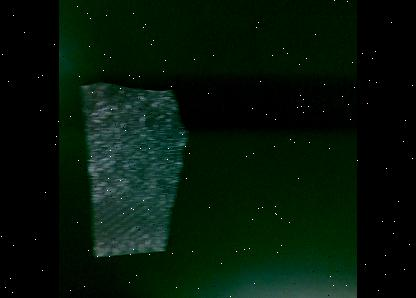Others: (80, 82, 188, 260)
